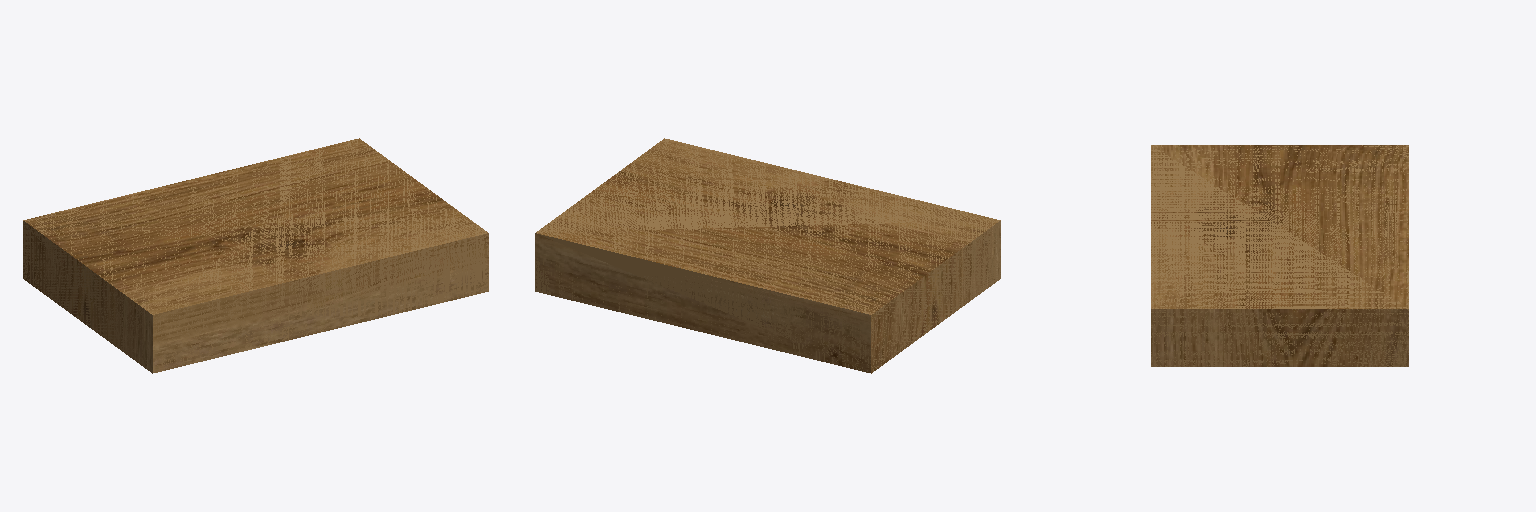
3 renders of one model, left to right at view 1: azimuth 30°, elevation 25°; view 2: azimuth 150°, elevation 25°; view 3: azimuth 270°, elevation 25°, orthographic.
Visible parts, largest first — view 1: Cube_Cube.001; view 2: Cube_Cube.001; view 3: Cube_Cube.001.
Boxes of the visible parts, x1,y1,x2,y2 form: Cube_Cube.001: [23, 138, 488, 373]; Cube_Cube.001: [535, 138, 1000, 373]; Cube_Cube.001: [1151, 145, 1408, 366].
Bounding box in the file's own units: 6 × 1 × 4.
2 materials, 1 textured.